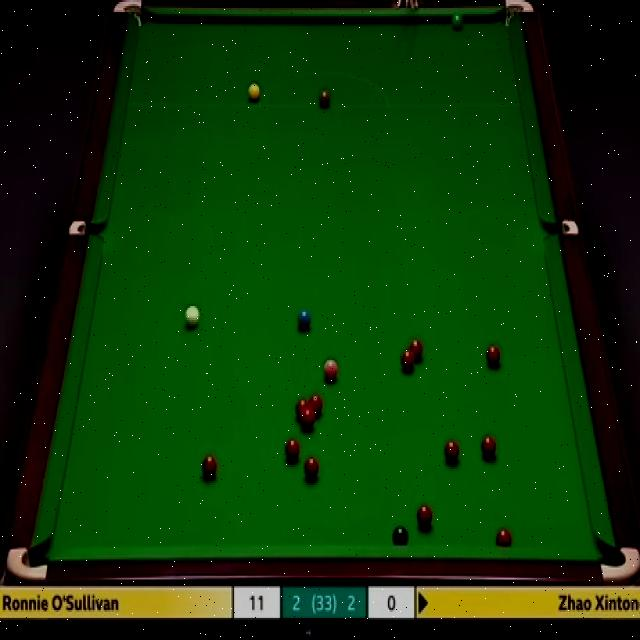black-ball: (392, 524, 408, 546)
blue-ball: (296, 308, 313, 329)
brown-ball: (318, 86, 331, 107)
green-ball: (451, 9, 465, 29)
pink-ball: (323, 359, 339, 384)
red-ball: (443, 439, 462, 465), (304, 452, 321, 481), (416, 505, 434, 532), (400, 346, 416, 374), (282, 440, 301, 462), (482, 434, 498, 460), (408, 336, 424, 362), (485, 344, 500, 369), (295, 398, 309, 424), (202, 454, 218, 476), (309, 394, 323, 418), (495, 527, 513, 545), (301, 411, 316, 431)
white-ball: (185, 304, 202, 328)
yellow-ball: (247, 85, 260, 101)
